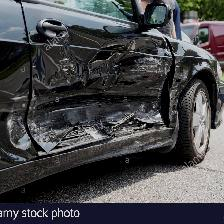door_dent: (20, 44, 189, 148)
